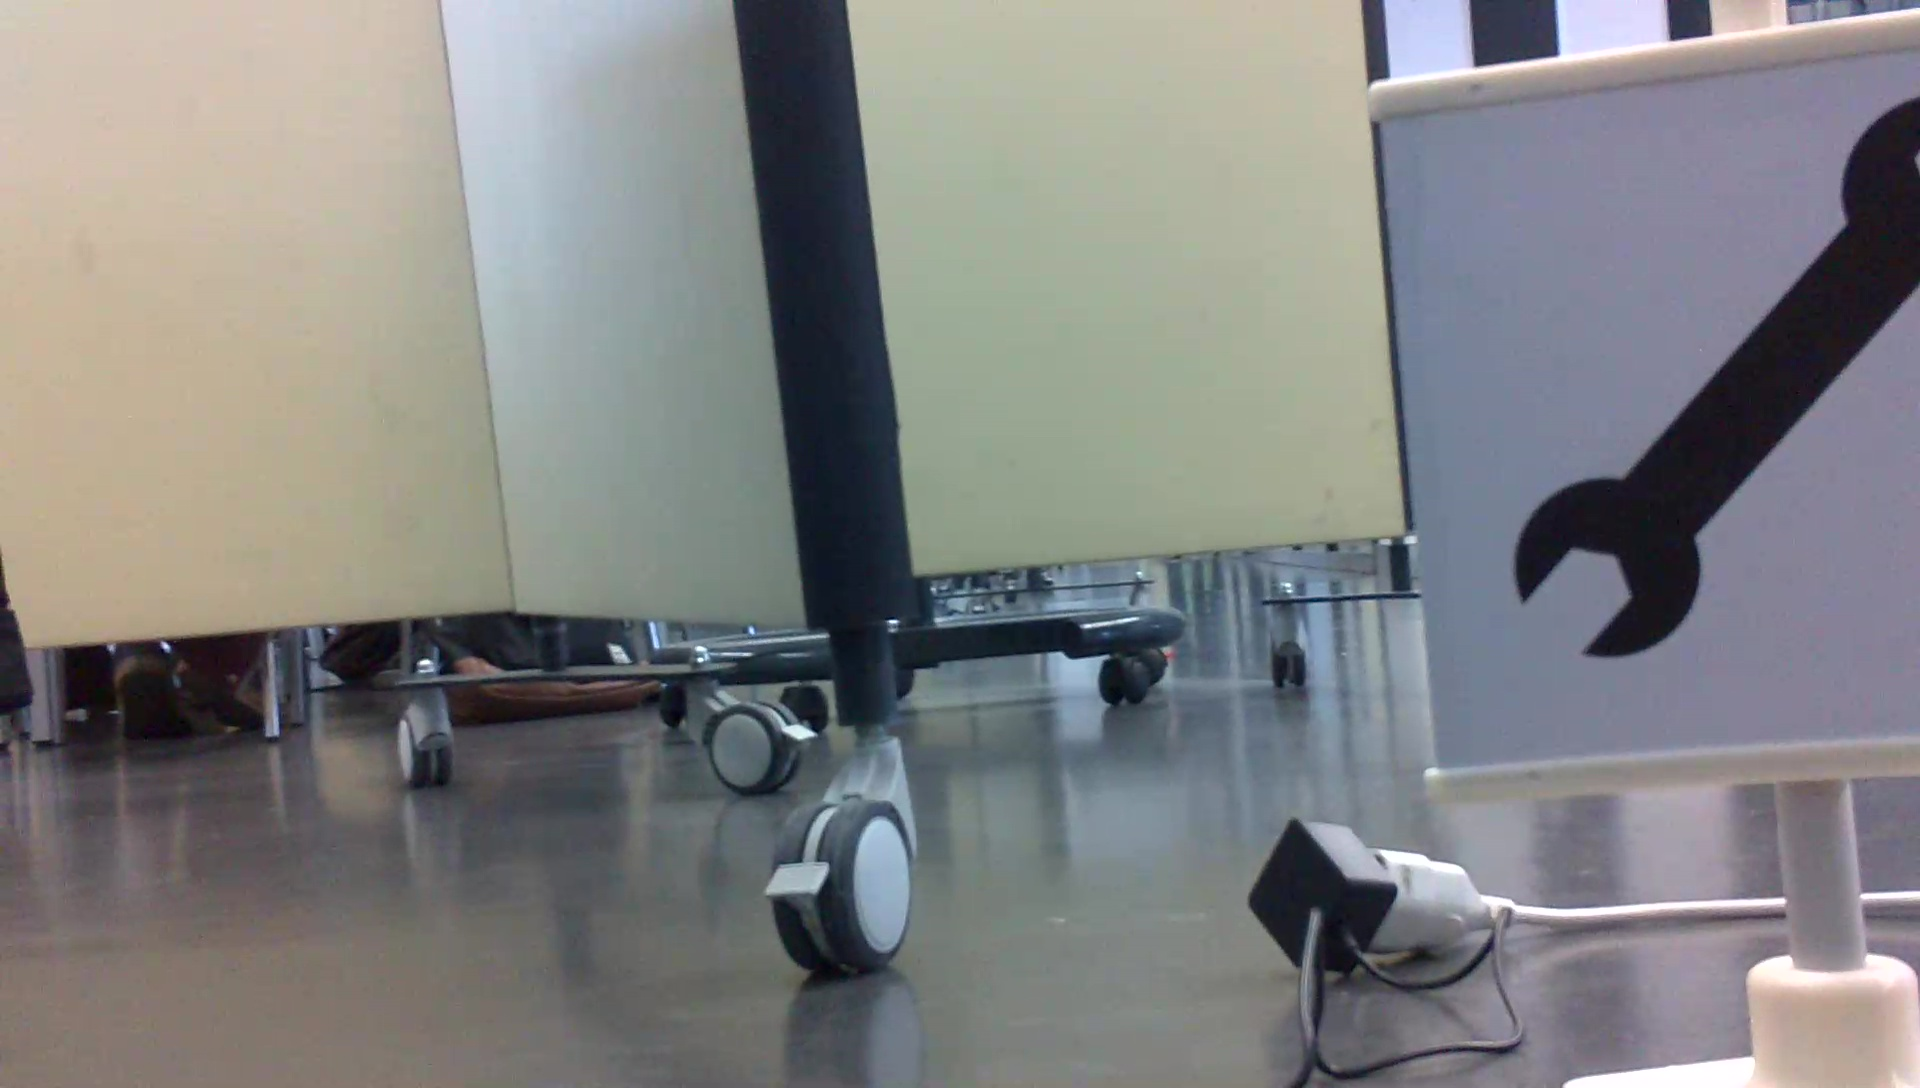wrench: (1509, 86, 1920, 667)
